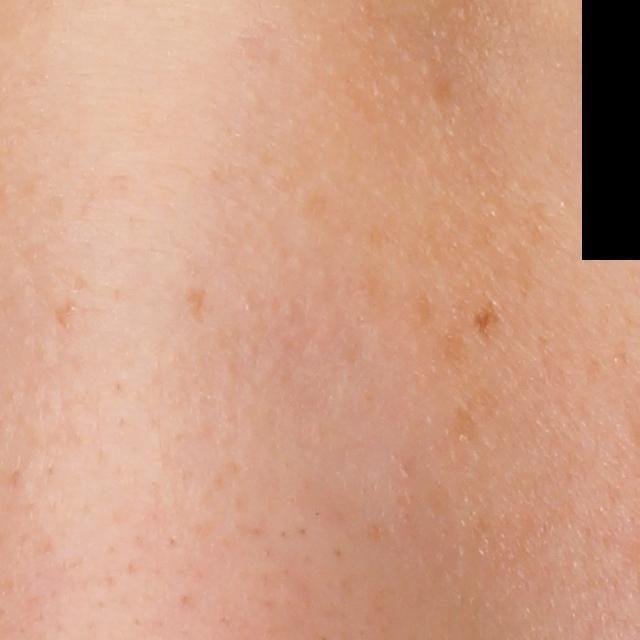melasma: (179, 277, 217, 328), (50, 297, 78, 335), (471, 305, 500, 341)
